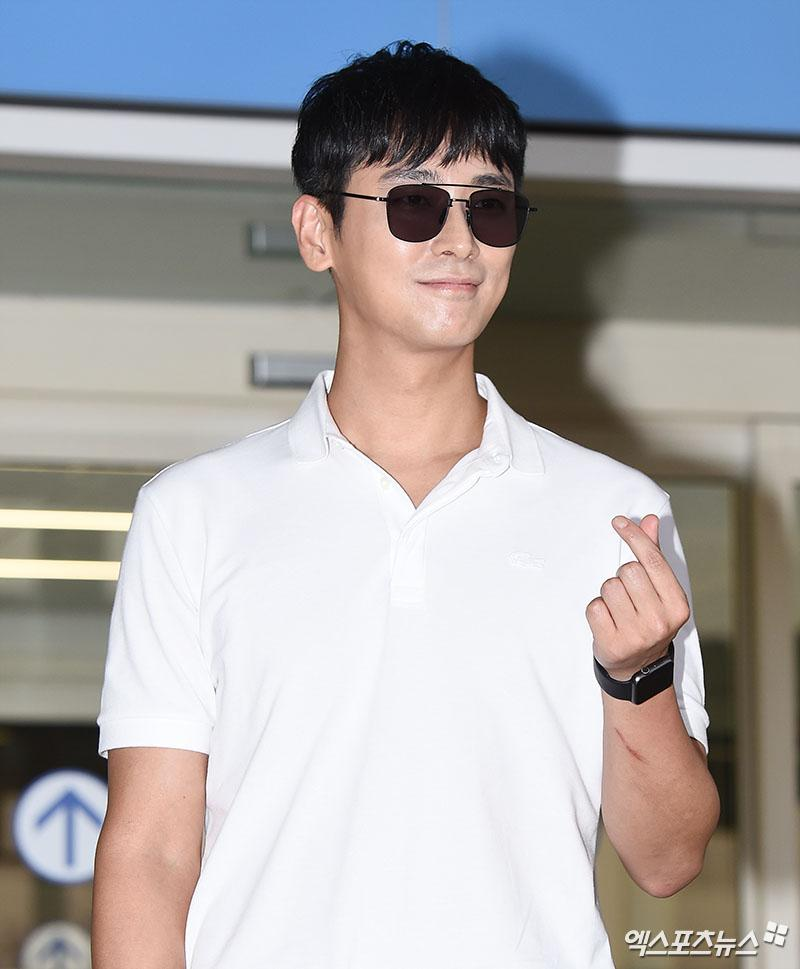heart gesture: (610, 510, 668, 565)
